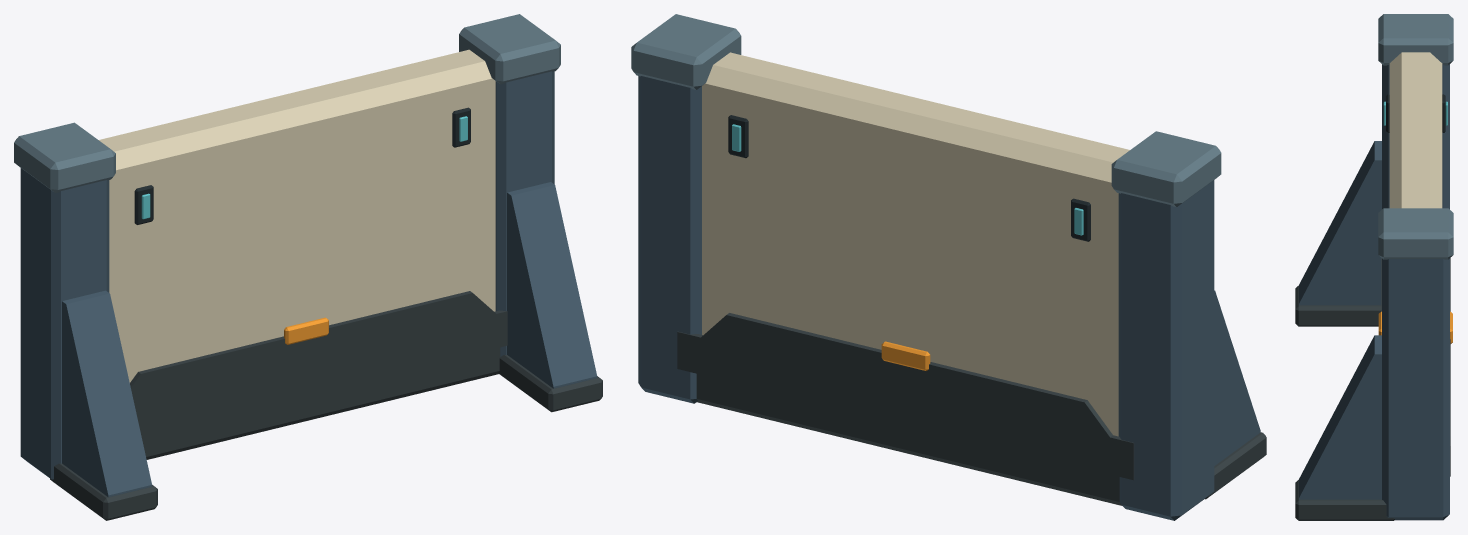
Rendered from emergency-barricade.glb.
3 views of the same model, side by side, from view 1: azimuth 30°, elevation 25°; view 2: azimuth 150°, elevation 25°; view 3: azimuth 270°, elevation 25° (orthographic). The views are drawn at different scales.
Visible parts, largest first — view 1: emergency-barricade; view 2: emergency-barricade; view 3: emergency-barricade.
Part boxes in pixels (x1=…): emergency-barricade: x1=14, y1=14, x2=602, y2=520; emergency-barricade: x1=631, y1=14, x2=1266, y2=520; emergency-barricade: x1=1295, y1=14, x2=1453, y2=520.
Bounding box in the file's own units: 2.8 × 1.7 × 0.84.
Materials: 1 (1 with a texture image).
